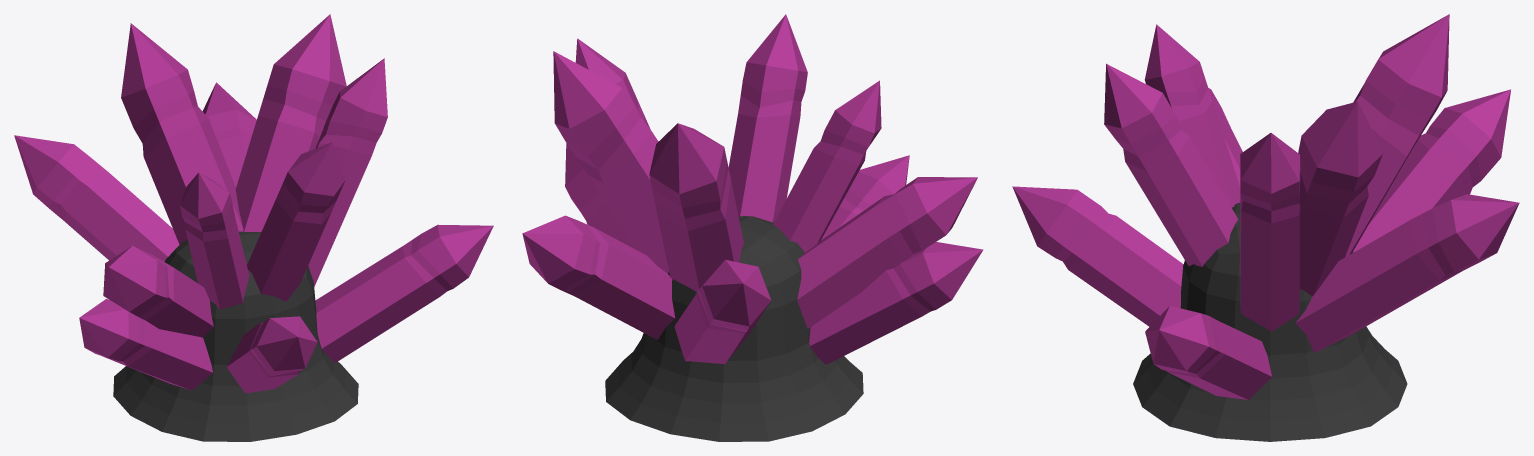
File: Mineral.glb
The picture shows the model from 3 angles, left to right: view 1: azimuth 30°, elevation 25°; view 2: azimuth 150°, elevation 25°; view 3: azimuth 270°, elevation 25°; orthographic projection. The views are drawn at different scales.
Visible parts, largest first — view 1: Mineral; view 2: Mineral; view 3: Mineral.
Boxes of the visible parts, x1=… form: Mineral: x1=14, y1=14, x2=493, y2=441; Mineral: x1=522, y1=14, x2=983, y2=441; Mineral: x1=1012, y1=14, x2=1519, y2=441.
Size of the model in its own units: 0.5876 by 0.4367 by 0.5644.
